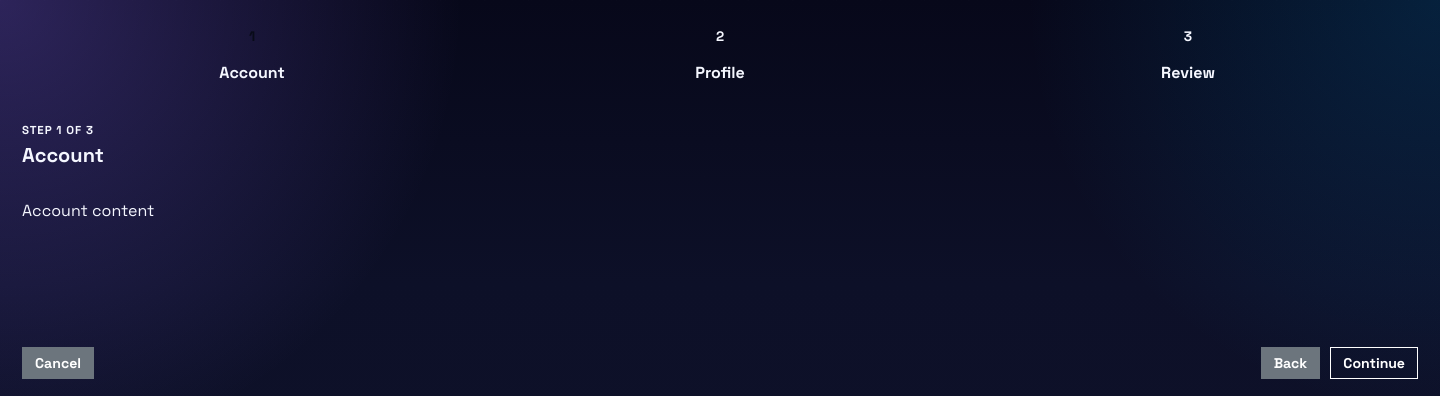
FormWizard › supports direct step navigation when enabled
Click the button "3 Review". click: (1188, 72)
box: [954,18,1422,83]
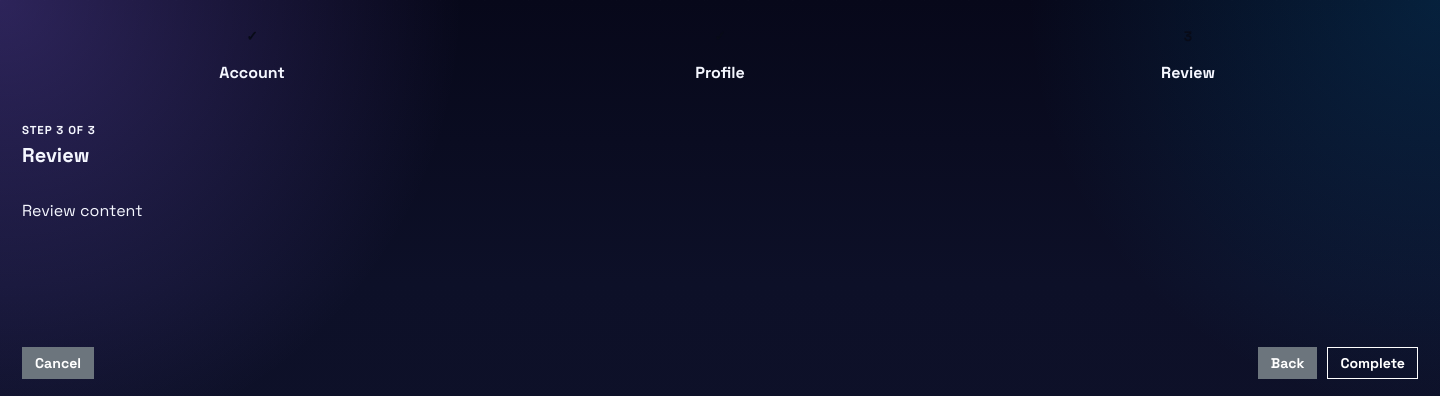
Expected: the text "Review content" is shown, [22,200,143,221]
